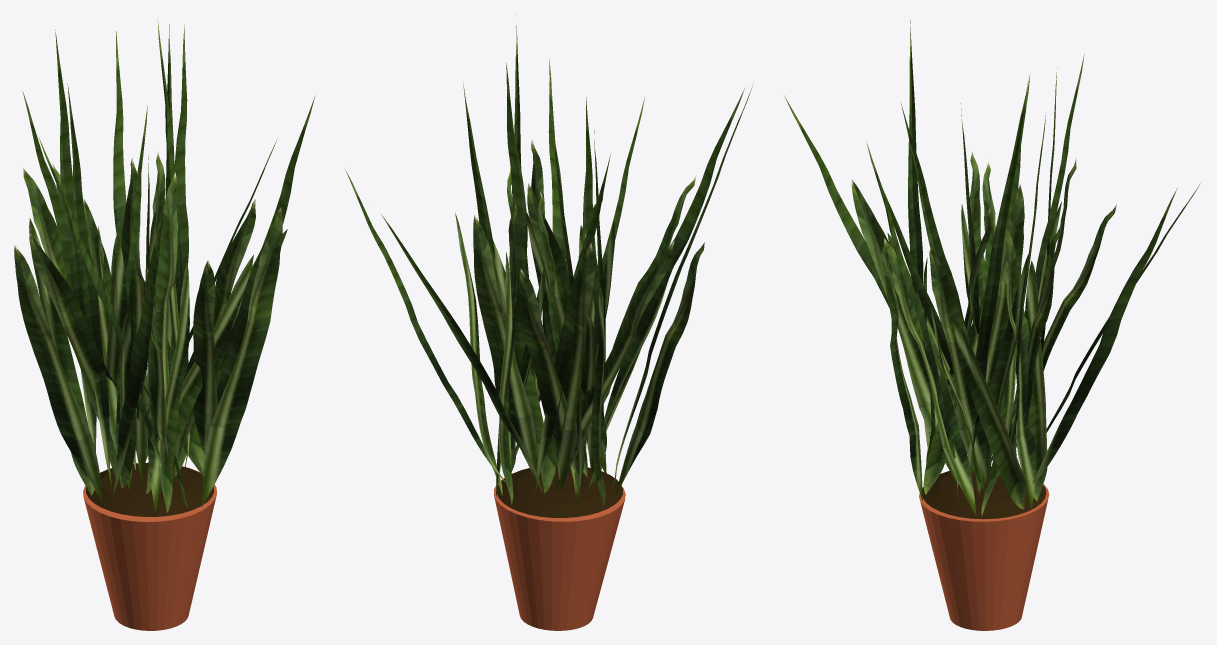
File: gorshok.dae
3 renders of one model, left to right at view 1: azimuth 30°, elevation 25°; view 2: azimuth 150°, elevation 25°; view 3: azimuth 270°, elevation 25°, orthographic. The views are drawn at different scales.
Parts seen in each view (by area): view 1: listochek, Cylinder, Circle; view 2: listochek, Cylinder, Circle; view 3: listochek, Cylinder, Circle.
Boxes of the visible parts, <box> form: listochek: <box>14,20,314,512</box>; Cylinder: <box>83,466,216,630</box>; Circle: <box>85,462,213,516</box>; listochek: <box>345,15,753,506</box>; Cylinder: <box>493,478,625,630</box>; Circle: <box>497,465,623,517</box>; listochek: <box>783,20,1200,516</box>; Cylinder: <box>919,484,1049,630</box>; Circle: <box>922,466,1046,519</box>.
Bounding box in the file's own units: 2.3 × 3.15 × 4.62.
3 materials, 1 textured.
